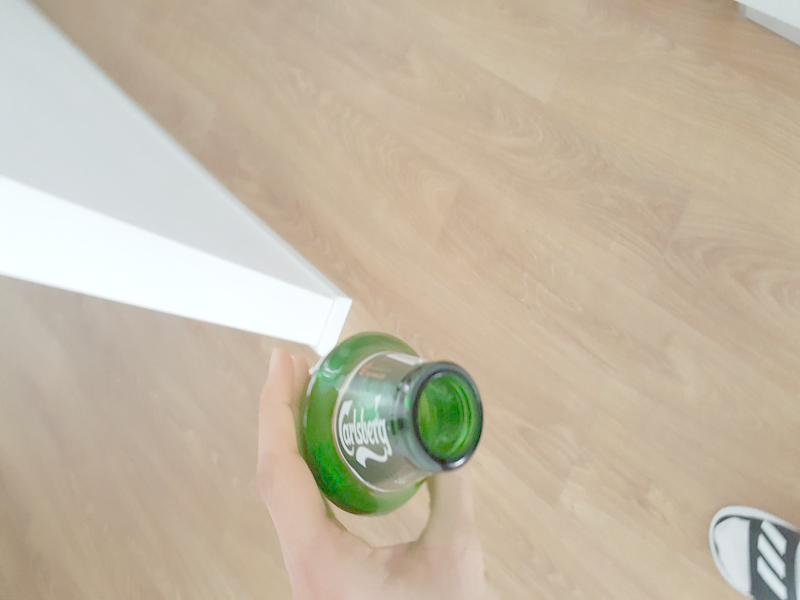Beer: (298, 330, 483, 520)
